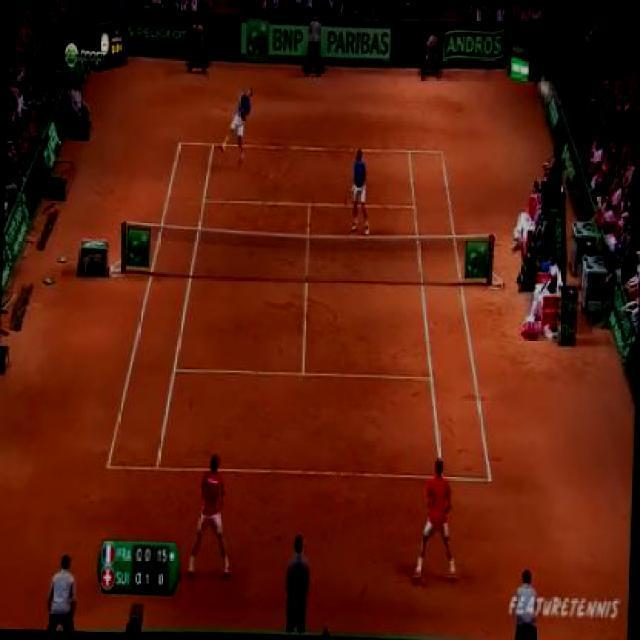non-fight: (412, 454, 462, 588), (188, 448, 235, 580), (344, 136, 374, 238), (220, 80, 254, 169)
